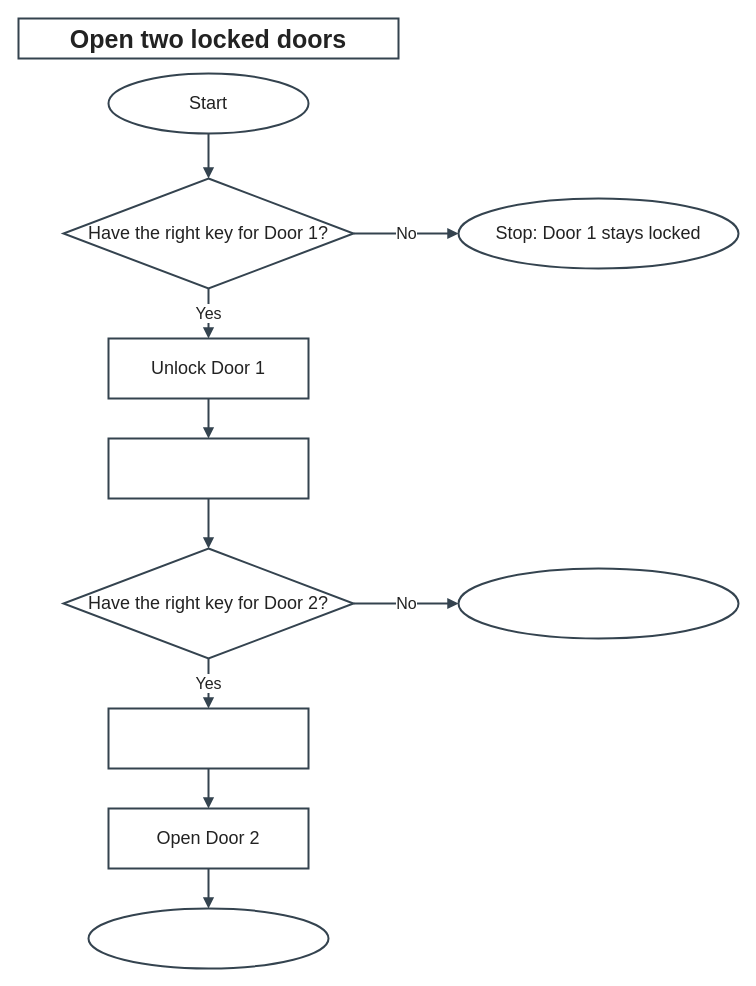
Image size: 756x986. Some labels were removed from this diagram. The centre of each missing label's shape, as x and y in pixels:
End: both doors open: the point at 208,938
Open Door 1: the point at 208,468
Stop: Door 2 stays locked: the point at 598,603
Unlock Door 2: the point at 208,738
